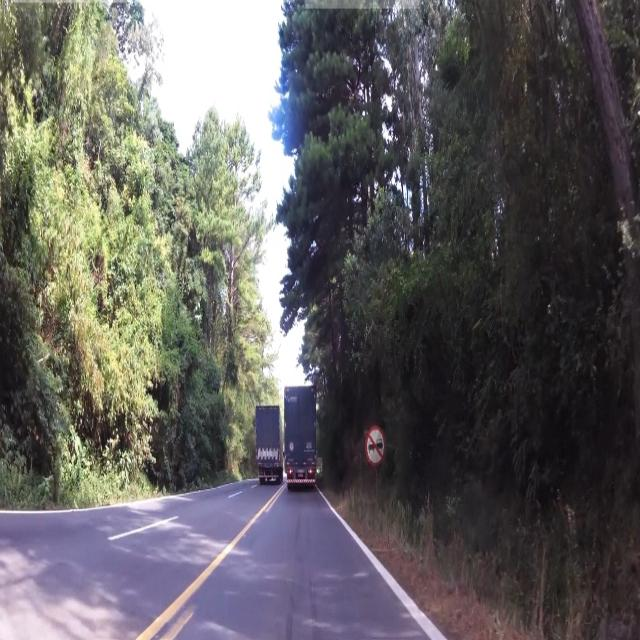R-7: (365, 426, 389, 475)
